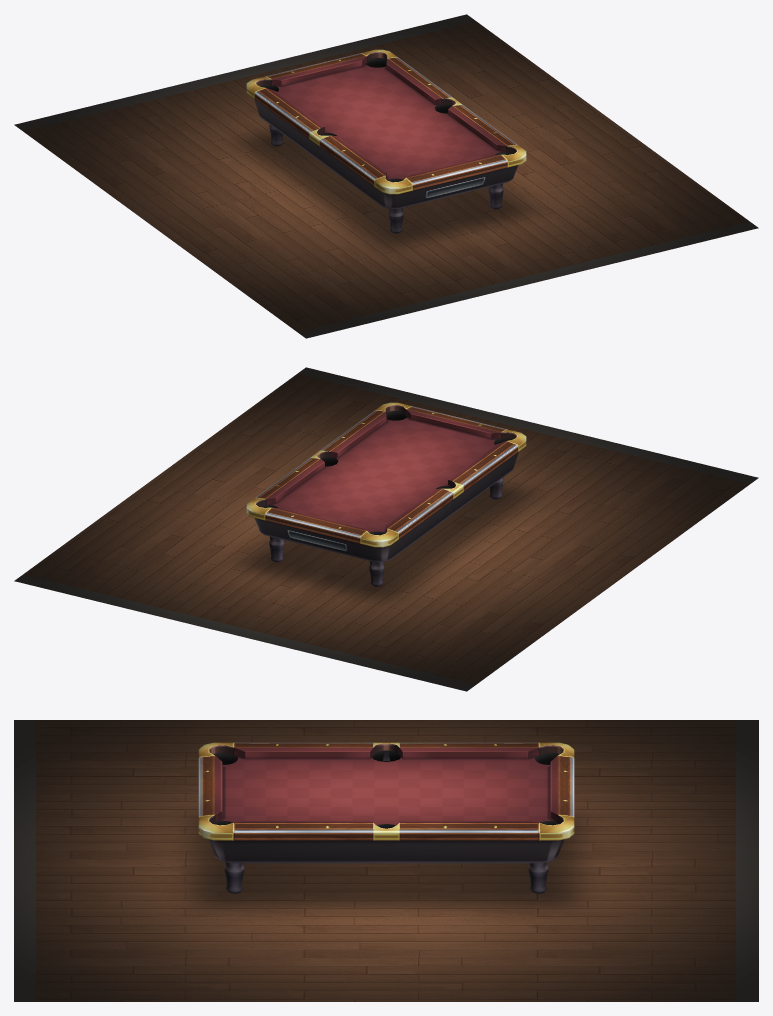
The model's file is Pocketball_table.FBX.
The picture shows the model from 3 angles, top to bottom: view 1: azimuth 30°, elevation 25°; view 2: azimuth 150°, elevation 25°; view 3: azimuth 270°, elevation 25°; orthographic projection. The views are drawn at different scales.
Visible parts, largest first — view 1: Object023, Object021, Object003; view 2: Object023, Object021, Object003; view 3: Object023, Object021, Object003.
Boxes of the visible parts, x1,y1,x2,y2 form: Object023: (14, 14, 758, 338); Object021: (246, 49, 526, 208); Object003: (269, 124, 503, 233); Object023: (14, 367, 758, 691); Object021: (246, 402, 526, 561); Object003: (269, 477, 503, 586); Object023: (14, 720, 758, 1001); Object021: (198, 742, 574, 863); Object003: (224, 862, 548, 893).
Bounding box in the file's own units: 993 × 125 × 1109.
